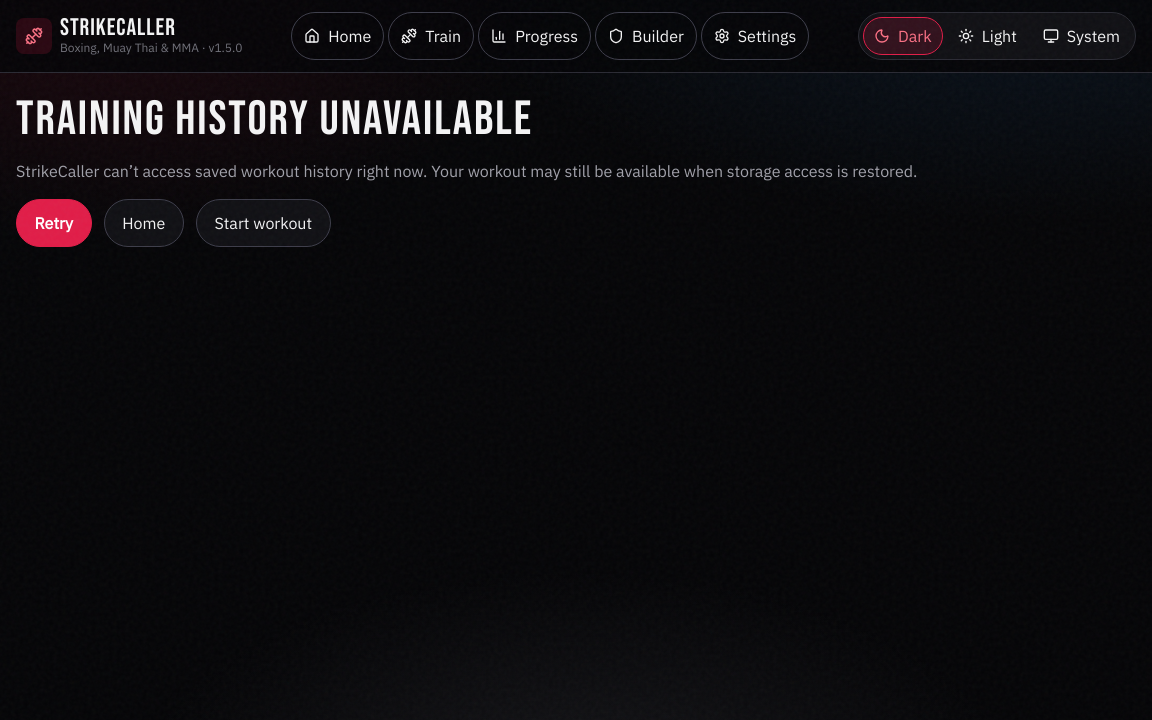
Test: durable summary recovery by session id › shows not found when retry discovers the session is truly absent
The width and height of the screenshot is (1152, 720).
Expected: the heading "Training history unavailable" is shown, [16, 91, 533, 148]
Expected: the heading "Workout summary not found." is not shown
Click the button "Retry": (54, 223) [16, 199, 92, 247]
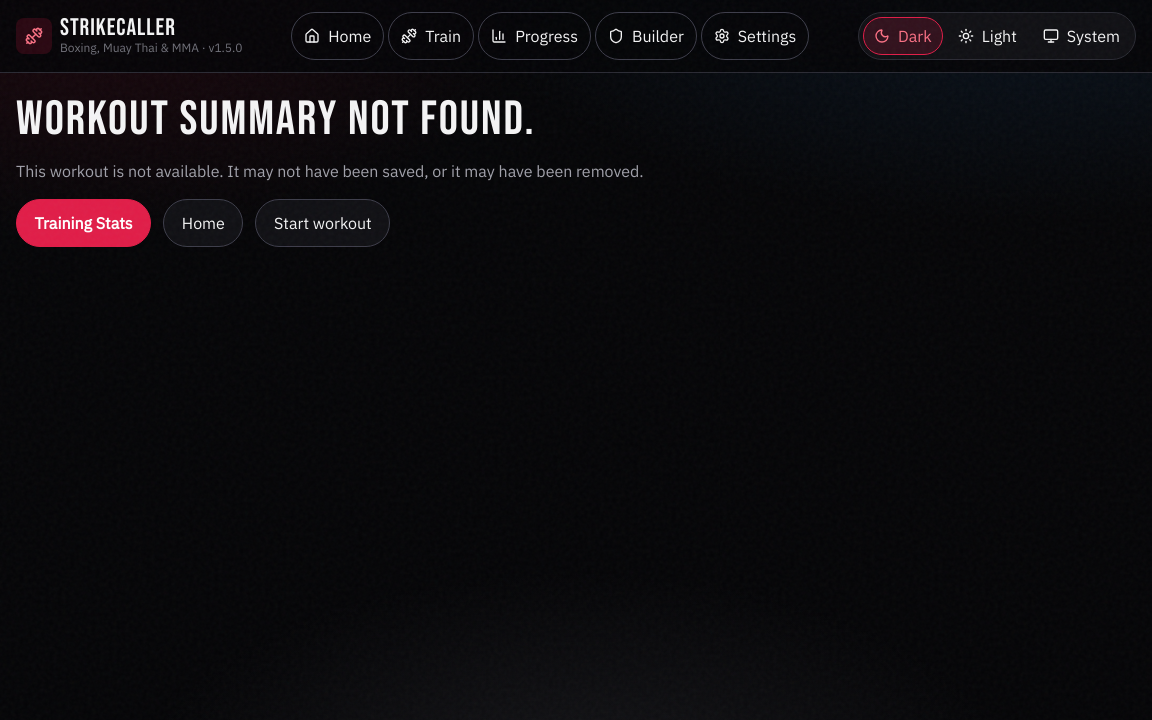
Result: the heading "Workout summary not found." is shown at [16, 91, 536, 148]
Result: the heading "Training history unavailable" is gone
Result: the link "Training Stats" is shown at [16, 199, 151, 247]
